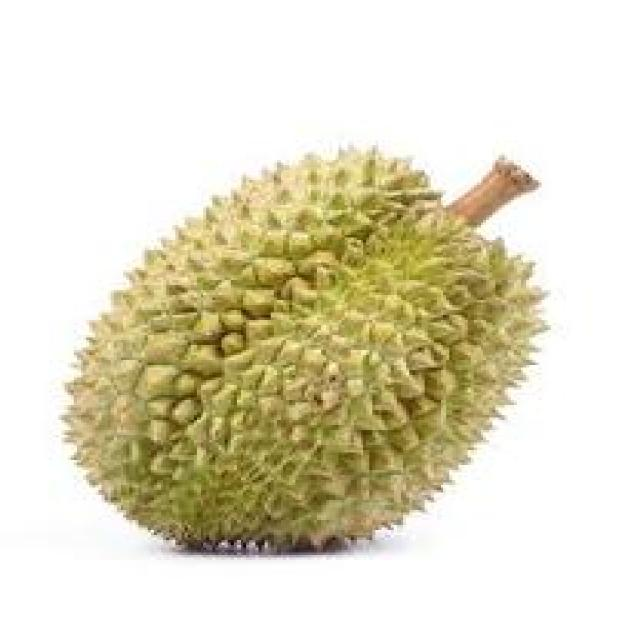non_orange: (52, 117, 572, 575)
